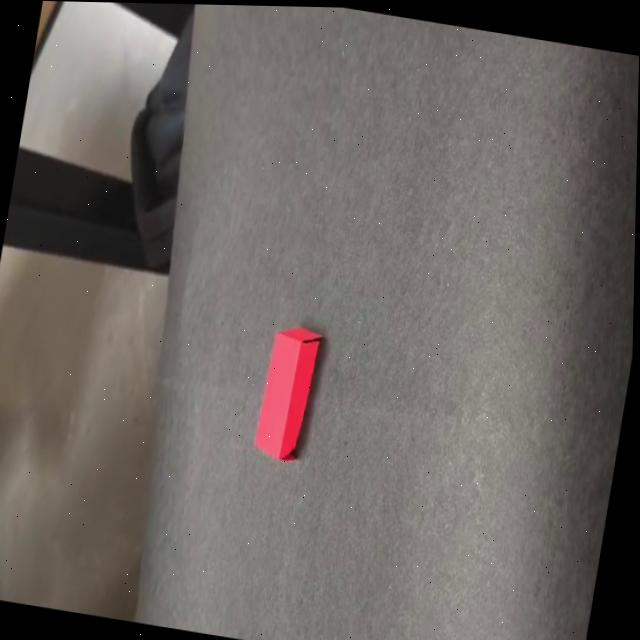red block: (249, 320, 324, 465)
